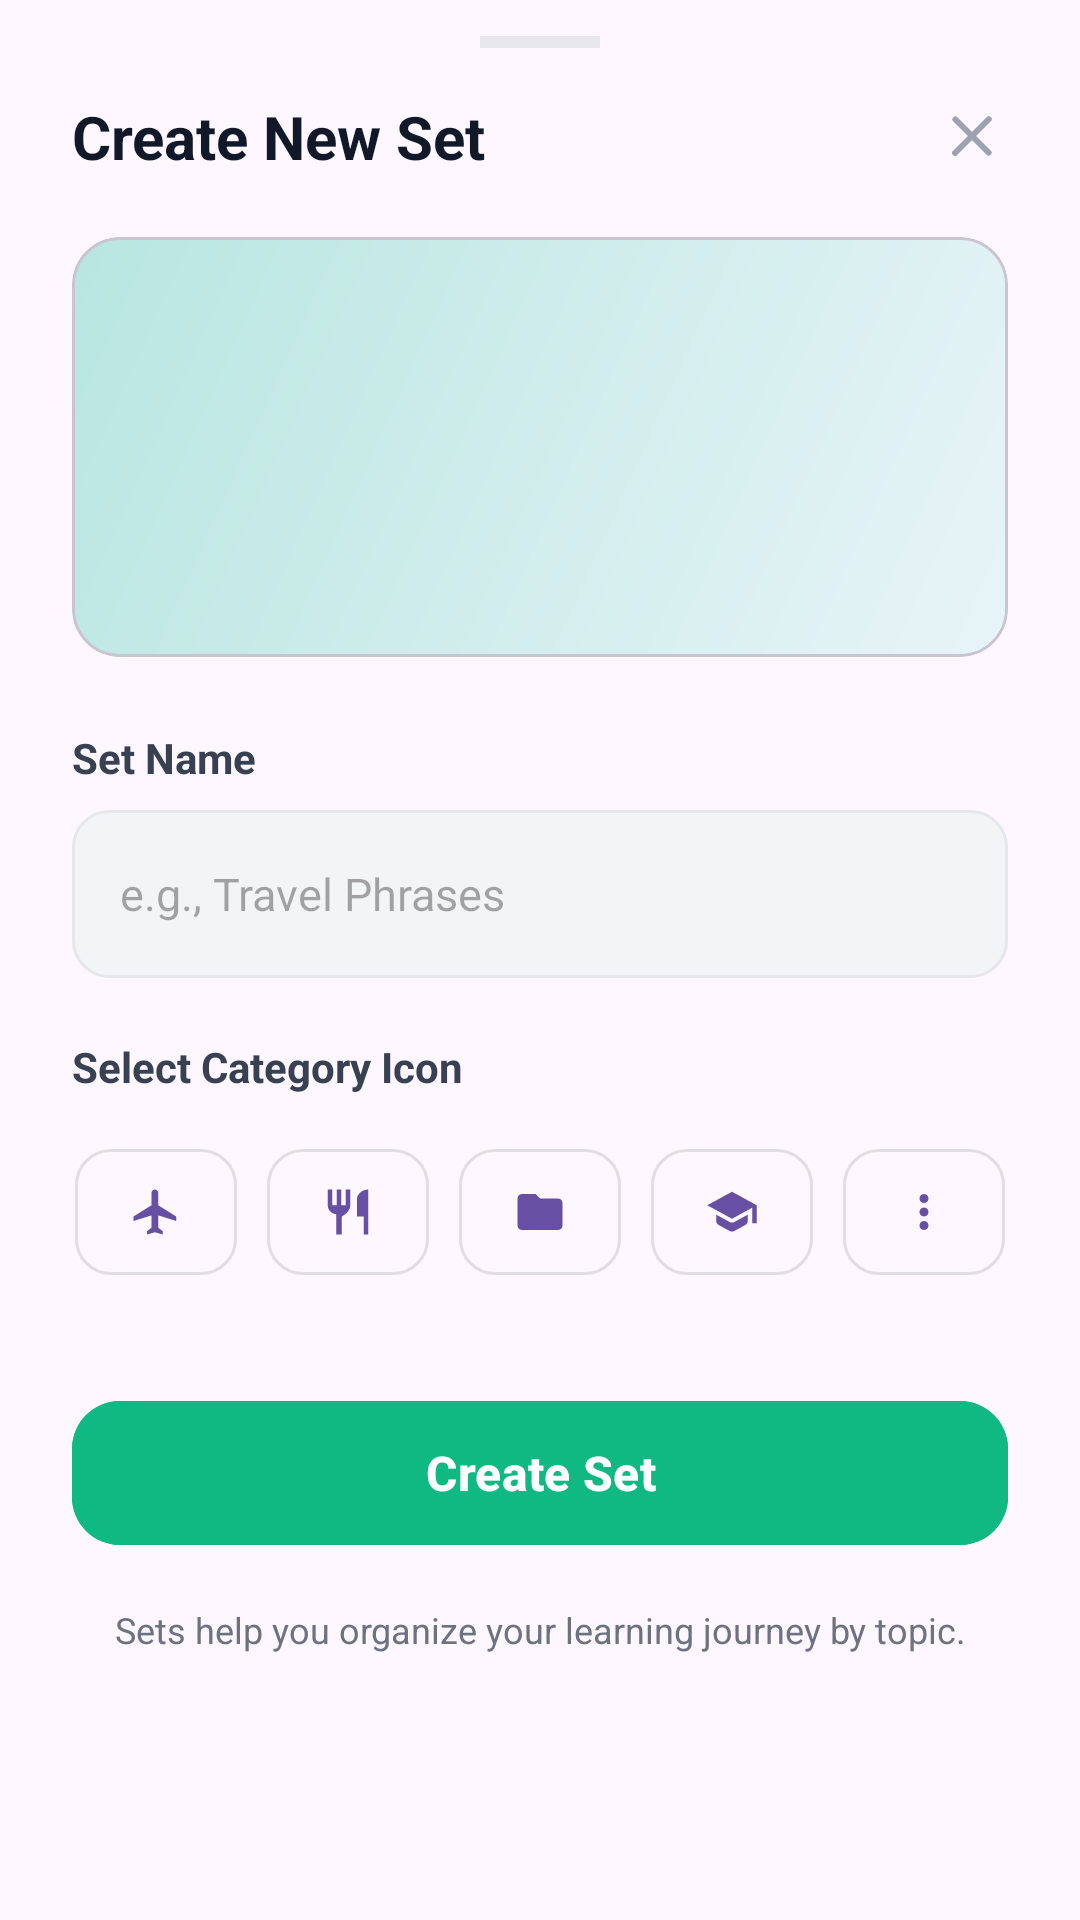

Screen size 1080×1920. Icon name, then its center in pixels as point (x, y):
airplane: point (156, 1212)
close: point (972, 136)
folder: point (540, 1212)
learn: point (732, 1212)
more vert: point (924, 1212)
restaurant: point (348, 1212)
